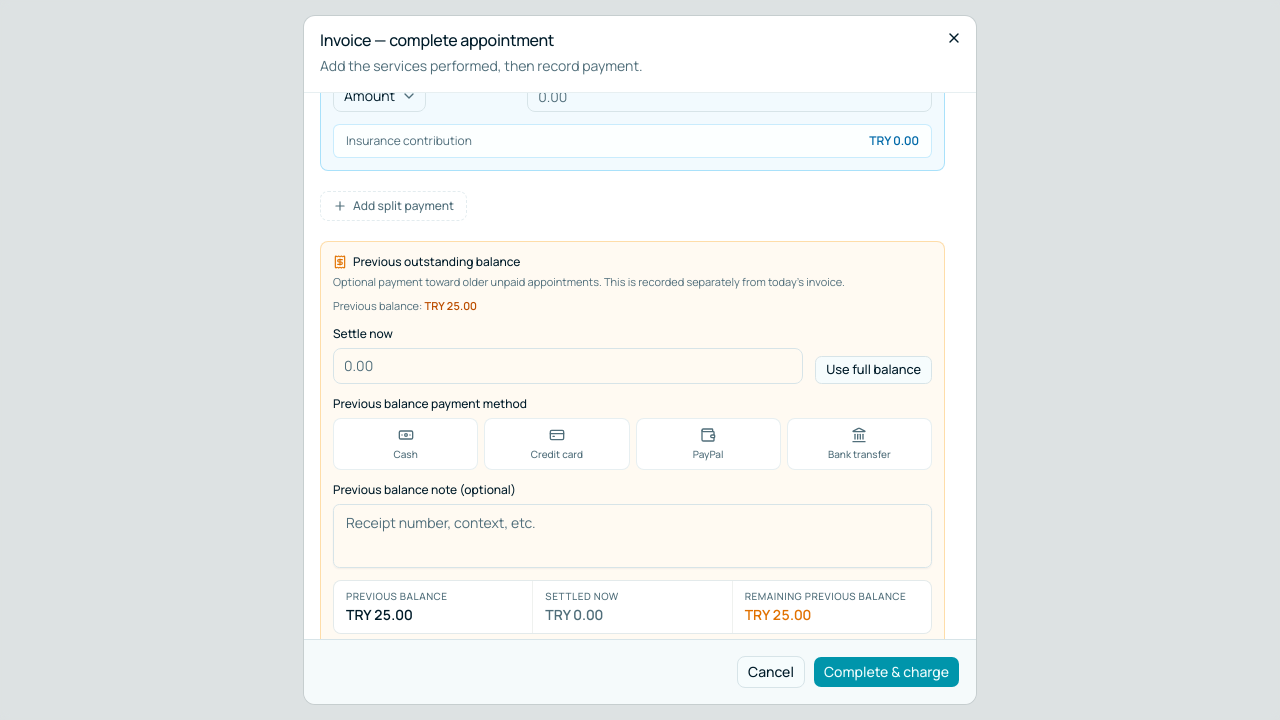
BillingDialog previous outstanding balance › blocks negative previous settlement values
(page scrolled)
Type "-1" into the number field named "Settle now" at [568, 366], box left=333, top=348, right=803, bottom=384
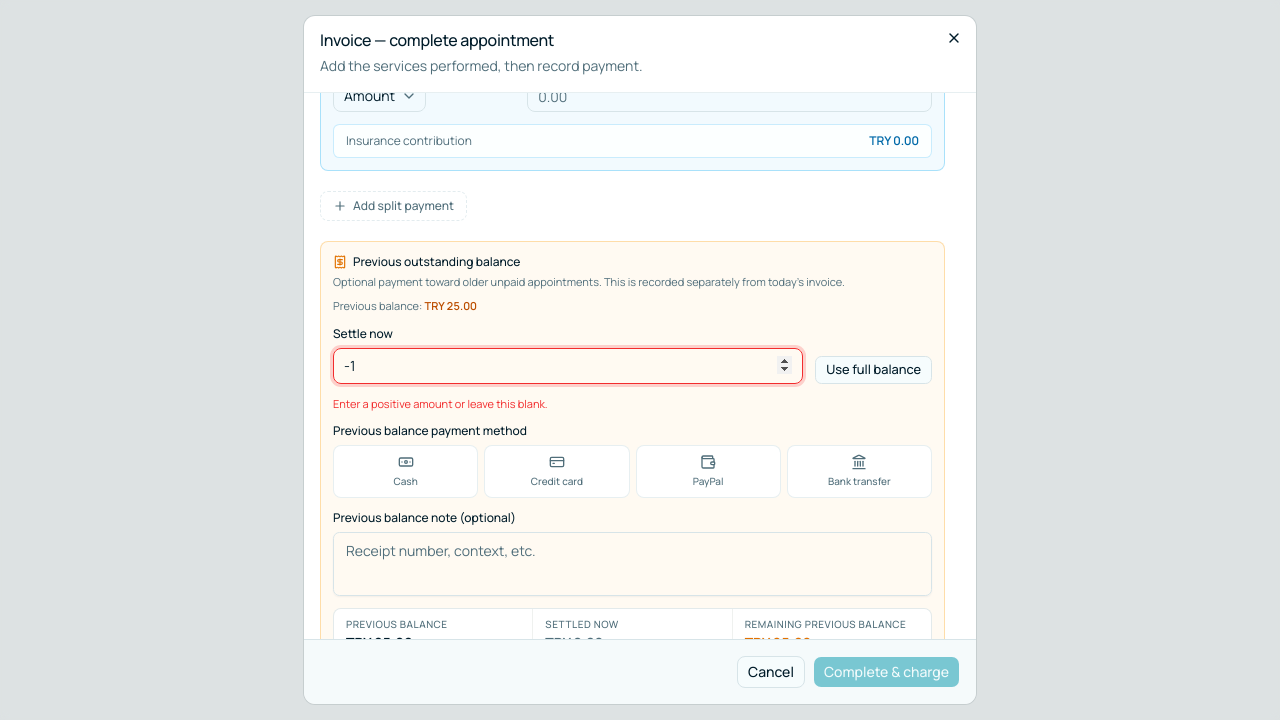
Now the text "Enter a positive amount or leave this blank." is shown, box left=333, top=396, right=548, bottom=410
Now the button "Complete & charge" is disabled, box left=813, top=656, right=960, bottom=688
